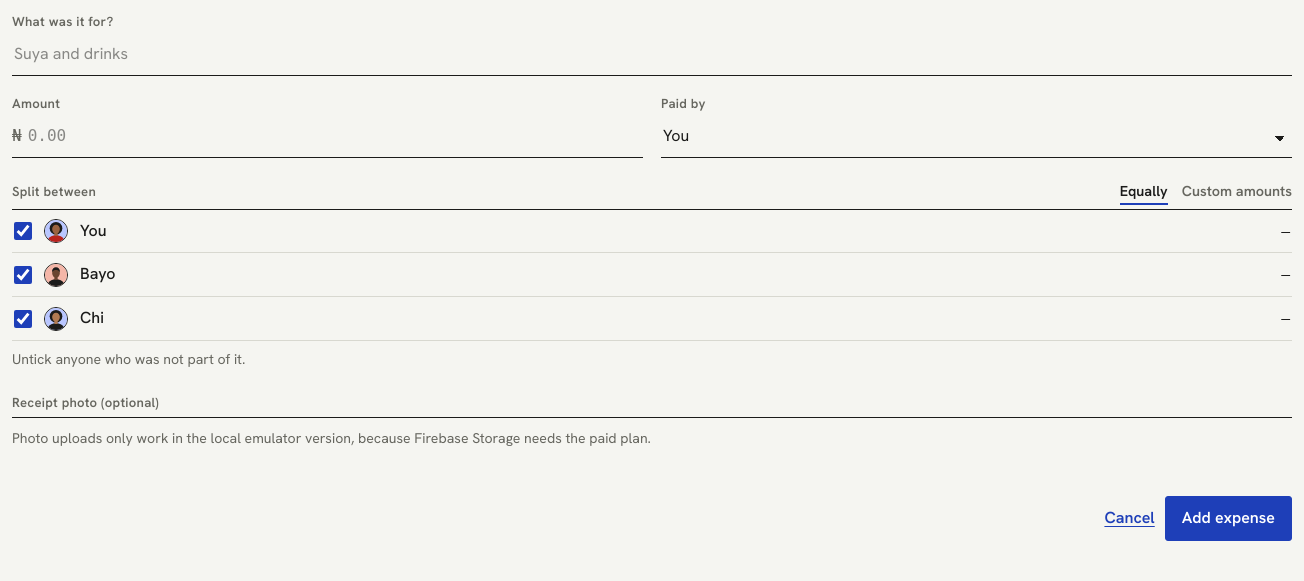
Test case: <ExpenseForm> custom amounts › marks a box that is not a number, and says so
The image size is (1304, 581).
Type "Jollof lunch" into the field labelled "What was it for?" at [652, 55], box [12,34,1292,76]
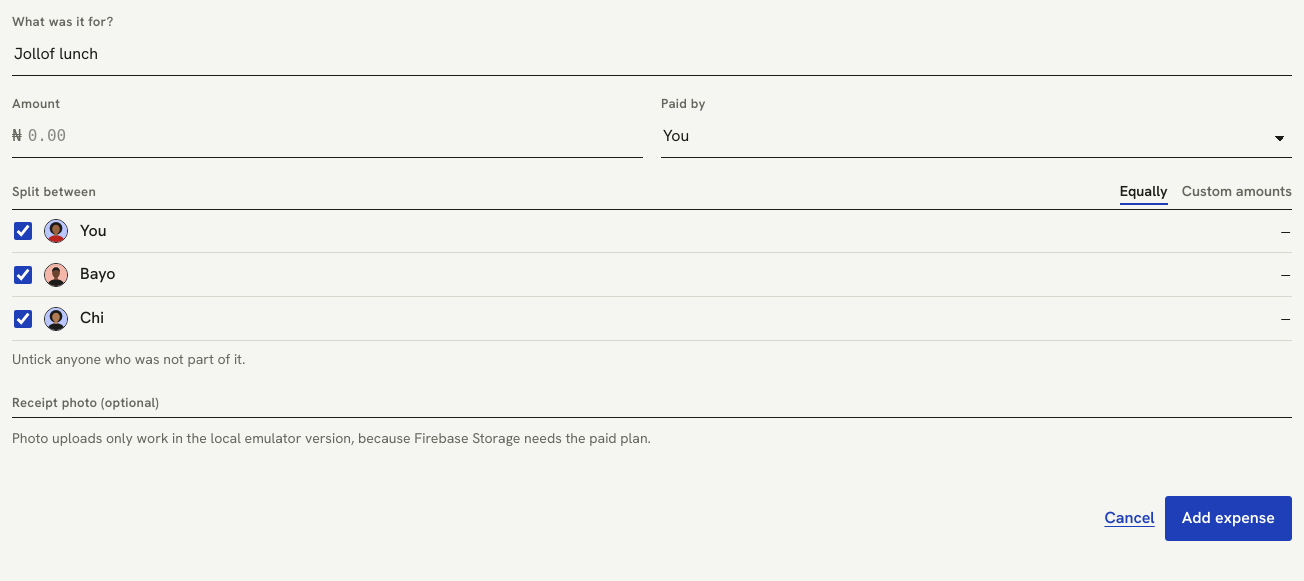
Type "100" into the field labelled "Amount" at [334, 137], box [26,116,643,157]
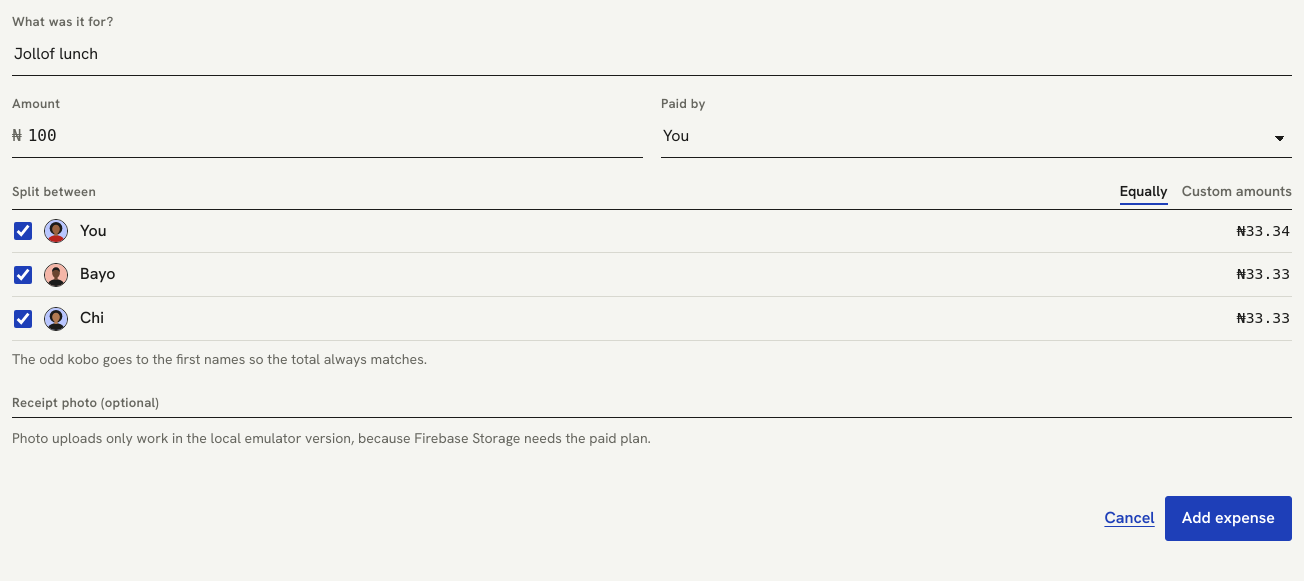
Click the button "Custom amounts" at [1237, 192], box [1182,180,1292,205]
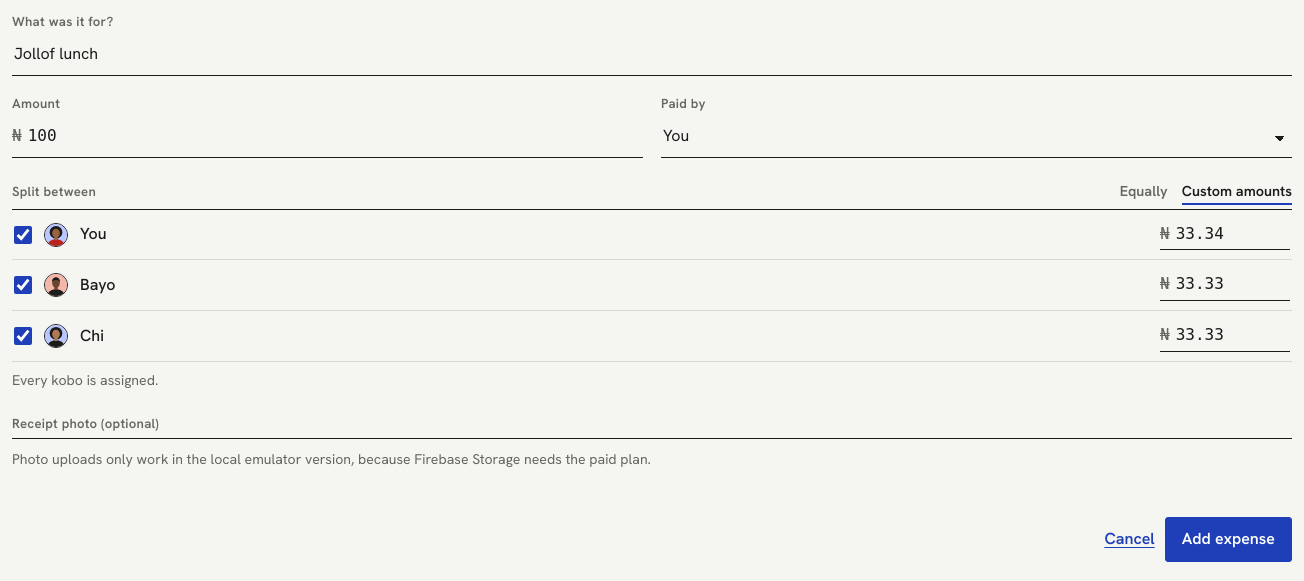
Replace the text in the field named "Amount for Bayo" with "3o" at [1232, 285], box [1174,269,1290,300]
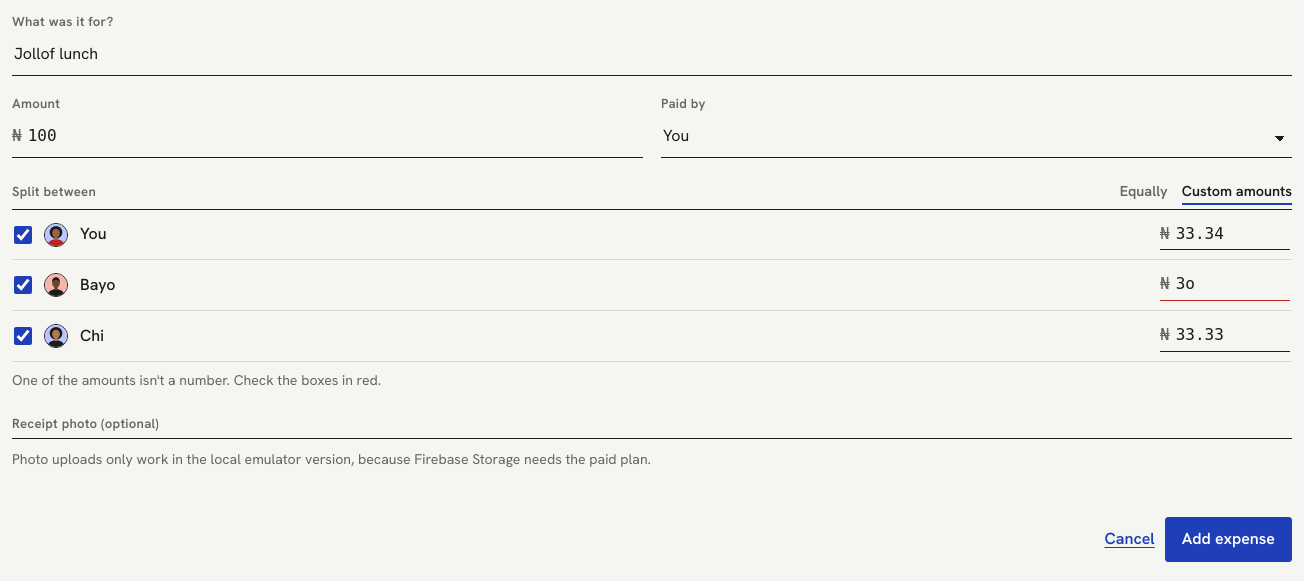
Expected: the field named "Amount for Bayo" is marked as invalid, [1174,269,1290,300]
Click the button "Add expense" at [1228, 540], box [1165,517,1292,562]
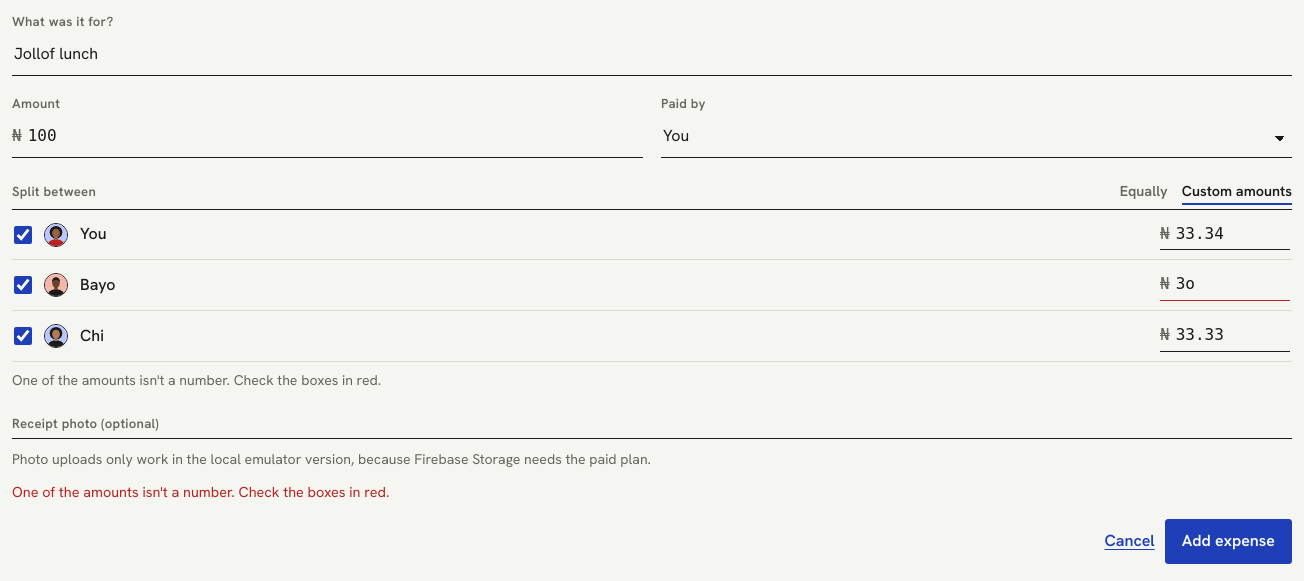
Expected: the message shows "isn't a number", [12,483,389,501]
